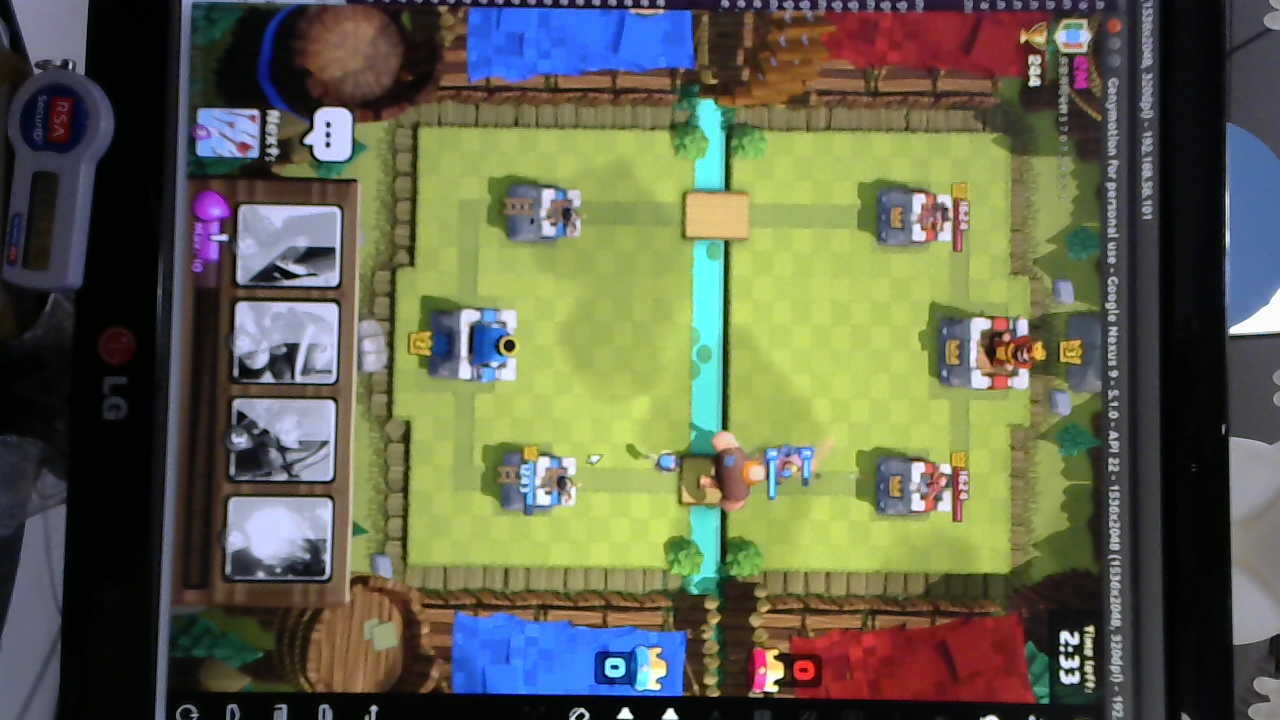arena: (499, 452, 580, 514), (497, 184, 581, 241)
bomb: (653, 446, 685, 482)
earena: (873, 457, 955, 521), (872, 186, 954, 248)
eking: (936, 308, 1044, 394)
giant: (704, 431, 761, 519)
king: (426, 308, 522, 380)
prince: (750, 441, 806, 496)
